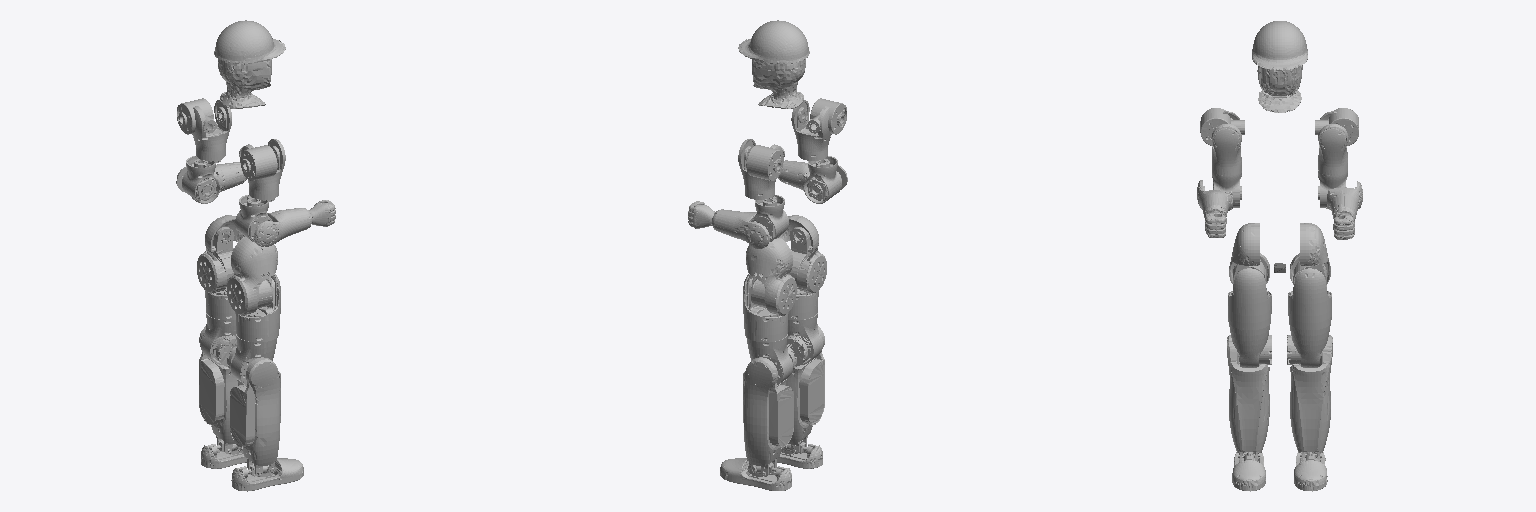
robot.urdf — mini3_27:
<?xml version="1.0"?>
<robot name="mini3_27">

    <link name="base_link">
      <visual>
        <origin xyz="0 0 0" rpy="0 0 0" />
        <geometry>
        <mesh filename="../meshes/base_link_mj.STL" />
        </geometry>
        <material>
          <color rgba="0.74902353 0.74902353 0.74902353 1.00000000" />
        </material>
      </visual>
      <collision>
        <origin xyz="0.0054139 0.0000217 0.0040027" rpy="1.5707963 0 0" />
        <geometry>
          <cylinder radius="0.035" length="0.12" />
        </geometry>
      </collision>
      <inertial>
        <origin xyz="-0.00087 -0.0000002 0.002345" rpy="0 0 0" />
        <mass value="1.0050972" />
        <inertia ixx="0.0015078" ixy="1.01901e-07" ixz="1.681366e-05" iyy="0.0005737024" iyz="-1.01901e-07" izz="0.0014912" />
      </inertial>
    </link>

    <link name="imu_link">
      <visual>
        <origin xyz="0 0 0" rpy="0 0 0" />
        <geometry>
        <mesh filename="../meshes/imu_link.STL" />
        </geometry>
        <material>
          <color rgba="0.49804314 0.49804314 0.49804314 1.00000000" />
        </material>
      </visual>
      <inertial>
        <origin xyz="0.0000067 -0.0001099 0.0066282" rpy="0 0 0" />
        <mass value="0.026293" />
        <inertia ixx="3.834323e-06" ixy="0" ixz="0" iyy="2.440024e-06" iyz="0" izz="5.577197e-06" />
      </inertial>
    </link>

    <link name="left_hip_pitch_link">
      <visual>
        <origin xyz="0 0 0" rpy="0 0 0" />
        <geometry>
        <mesh filename="../meshes/left_hip_pitch_link.STL" />
        </geometry>
        <material>
          <color rgba="0.74902353 0.74902353 0.74902353 1.00000000" />
        </material>
      </visual>
      <inertial>
        <origin xyz="-0.0029284 0.0018352 -0.0518352" rpy="0 0 0" />
        <mass value="0.4980043" />
        <inertia ixx="0.0003398972" ixy="-3.013458e-06" ixz="-1.870422e-05" iyy="0.0003523667" iyz="-1.537902e-05" izz="0.0002316206" />
      </inertial>
    </link>

    <link name="left_hip_roll_link">
      <visual>
        <origin xyz="0 0 0" rpy="0 0 0" />
        <geometry>
        <mesh filename="../meshes/left_hip_roll_link.STL" />
        </geometry>
        <material>
          <color rgba="0.74902353 0.74902353 0.74902353 1.00000000" />
        </material>
      </visual>
      <collision>
        <origin xyz="-0.013 0.00 -0.075" rpy="0 0 0" />
        <geometry>
          <cylinder radius="0.035" length="0.06" />
        </geometry>
      </collision>
      <inertial>
        <origin xyz="-0.0103937 -0.000043 -0.0562074" rpy="0 0 0" />
        <mass value="0.478866" />
        <inertia ixx="0.0003235694" ixy="-1.040751e-07" ixz="-4.79786e-05" iyy="0.0003326239" iyz="6.244504e-07" izz="0.0002055482" />
      </inertial>
    </link>

    <link name="left_hip_yaw_link">
      <visual>
        <origin xyz="0 0 0" rpy="0 0 0" />
        <geometry>
        <mesh filename="../meshes/left_hip_yaw_link.STL" />
        </geometry>
        <material>
          <color rgba="0.74902353 0.74902353 0.74902353 1.00000000" />
        </material>
      </visual>
      <inertial>
        <origin xyz="-0.0044749 -0.002653 -0.0538143" rpy="0 0 0" />
        <mass value="0.4886384" />
        <inertia ixx="0.0003362007" ixy="-6.75937e-06" ixz="-2.838935e-05" iyy="0.0003385924" iyz="-1.93422e-05" izz="0.0002201475" />
      </inertial>
    </link>

    <link name="left_knee_pitch_link">
      <visual>
        <origin xyz="0 0 0" rpy="0 0 0" />
        <geometry>
        <mesh filename="../meshes/left_knee_pitch_link.STL" />
        </geometry>
        <material>
          <color rgba="0.74902353 0.74902353 0.74902353 1.00000000" />
        </material>
      </visual>
      <collision>
        <origin xyz="0.0023641 -0.0155939 -0.1003981" rpy="0 0 0" />
        <geometry>
          <cylinder radius="0.045" length="0.15" />
        </geometry>
      </collision>
      <inertial>
        <origin xyz="0.00524 -0.01321 -0.0967858" rpy="0 0 0" />
        <mass value="0.9651771" />
        <inertia ixx="0.0021286" ixy="4.079245e-07" ixz="1.427736e-05" iyy="0.0020648" iyz="-7.587396e-05" izz="0.0004503487" />
      </inertial>
    </link>

    <link name="left_ankle_pitch_link">
      <visual>
        <origin xyz="0 0 0" rpy="0 0 0" />
        <geometry>
        <mesh filename="../meshes/left_ankle_pitch_link.STL" />
        </geometry>
        <material>
          <color rgba="0.74902353 0.74902353 0.74902353 1.00000000" />
        </material>
      </visual>
      <inertial>
        <origin xyz="-0.0018094 -0.0002054 0" rpy="0 0 0" />
        <mass value="0.0606722" />
        <inertia ixx="2.605063e-06" ixy="0" ixz="0" iyy="7.525737e-06" iyz="0" izz="6.367931e-06" />
      </inertial>
    </link>

    <link name="left_ankle_roll_link">
      <visual>
        <origin xyz="0 0 0" rpy="0 0 0" />
        <geometry>
        <mesh filename="../meshes/left_ankle_roll_link.STL" />
        </geometry>
        <material>
          <color rgba="0.74902353 0.74902353 0.74902353 1.00000000" />
        </material>
      </visual>
      <collision>
        <!-- <origin xyz="0.027 0 -0.018" rpy="0 0 0" /> -->
        <origin xyz="0.0 0.0 0.0" rpy="0 0 0" />
        <geometry>
          <!-- <box size="0.13 0.05 0.02" /> -->
          <mesh filename="../meshes/left_ankle_roll_link.STL" />
        </geometry>
      </collision>
      <inertial>
        <origin xyz="0.0237005 -0.0000052 -0.0148858" rpy="0 0 0" />
        <mass value="0.2257336" />
        <inertia ixx="8.321178e-05" ixy="0" ixz="9.597165e-06" iyy="0.0003770159" iyz="0" izz="0.0004089701" />
      </inertial>
    </link>

    <link name="right_hip_pitch_link">
      <visual>
        <origin xyz="0 0 0" rpy="0 0 0" />
        <geometry>
        <mesh filename="../meshes/right_hip_pitch_link.STL" />
        </geometry>
        <material>
          <color rgba="0.74902353 0.74902353 0.74902353 1.00000000" />
        </material>
      </visual>
      <inertial>
        <origin xyz="-0.0029286 -0.0018352 -0.0519071" rpy="0 0 0" />
        <mass value="0.4980042" />
        <inertia ixx="0.0003405207" ixy="3.013458e-06" ixz="-2.02629e-05" iyy="0.0003528863" iyz="1.527511e-05" izz="0.0002316206" />
      </inertial>
    </link>

    <link name="right_hip_roll_link">
      <visual>
        <origin xyz="0 0 0" rpy="0 0 0" />
        <geometry>
        <mesh filename="../meshes/right_hip_roll_link.STL" />
        </geometry>
        <material>
          <color rgba="0.74902353 0.74902353 0.74902353 1.00000000" />
        </material>
      </visual>
      <collision>
        <origin xyz="-0.013 0.0 -0.075" rpy="0 0 0" />
        <geometry>
          <cylinder radius="0.035" length="0.06" />
        </geometry>
      </collision>
      <inertial>
        <origin xyz="-0.0103937 0.0000429 -0.0562074" rpy="0 0 0" />
        <mass value="0.478866" />
        <inertia ixx="0.0003235694" ixy="1.040751e-07" ixz="-4.79786e-05" iyy="0.0003326239" iyz="-6.244504e-07" izz="0.0002055482" />
      </inertial>
    </link>

    <link name="right_hip_yaw_link">
      <visual>
        <origin xyz="0 0 0" rpy="0 0 0" />
        <geometry>
        <mesh filename="../meshes/right_hip_yaw_link.STL" />
        </geometry>
        <material>
          <color rgba="0.74902353 0.74902353 0.74902353 1.00000000" />
        </material>
      </visual>
      <inertial>
        <origin xyz="-0.004476 0.0027092 -0.0538973" rpy="0 0 0" />
        <mass value="0.4886279" />
        <inertia ixx="0.0003368249" ixy="7.071347e-06" ixz="-2.859736e-05" iyy="0.0003394247" iyz="2.038212e-05" izz="0.0002200437" />
      </inertial>
    </link>

    <link name="right_knee_pitch_link">
      <visual>
        <origin xyz="0 0 0" rpy="0 0 0" />
        <geometry>
        <mesh filename="../meshes/right_knee_pitch_link.STL" />
        </geometry>
        <material>
          <color rgba="0.74902353 0.74902353 0.74902353 1.00000000" />
        </material>
      </visual>
      <collision>
        <origin xyz="0.0025553 0.015072 -0.10242" rpy="0 0 0" />
        <geometry>
          <cylinder radius="0.045" length="0.15" />
        </geometry>
      </collision>
      <inertial>
        <origin xyz="0.00524 0.0131919 -0.096817" rpy="0 0 0" />
        <mass value="0.9651751" />
        <inertia ixx="0.0021255" ixy="-1.223774e-06" ixz="1.284962e-05" iyy="0.0020617" iyz="7.668982e-05" izz="0.0004503487" />
      </inertial>
    </link>

    <link name="right_ankle_pitch_link">
      <visual>
        <origin xyz="0 0 0" rpy="0 0 0" />
        <geometry>
        <mesh filename="../meshes/right_ankle_pitch_link.STL" />
        </geometry>
        <material>
          <color rgba="0.74902353 0.74902353 0.74902353 1.00000000" />
        </material>
      </visual>
      <inertial>
        <origin xyz="-0.0018094 -0.0002054 0" rpy="0 0 0" />
        <mass value="0.0606722" />
        <inertia ixx="2.605063e-06" ixy="0" ixz="0" iyy="7.525737e-06" iyz="0" izz="6.367931e-06" />
      </inertial>
    </link>

    <link name="right_ankle_roll_link">
      <visual>
        <origin xyz="0 0 0" rpy="0 0 0" />
        <geometry>
        <mesh filename="../meshes/right_ankle_roll_link.STL" />
        </geometry>
        <material>
          <color rgba="0.74902353 0.74902353 0.74902353 1.00000000" />
        </material>
      </visual>
      <collision>
        <!-- <origin xyz="0.027 0 -0.018" rpy="0 0 0" /> -->
        <origin xyz="0.0 0.0 0.0" rpy="0 0 0" />
        <geometry>
          <!-- <box size="0.13 0.05 0.02" /> -->
          <mesh filename="../meshes/right_ankle_roll_link.STL" />
        </geometry>
      </collision>
      <inertial>
        <origin xyz="0.0237005 -0.0000052 -0.0148858" rpy="0 0 0" />
        <mass value="0.2257336" />
        <inertia ixx="8.321178e-05" ixy="0" ixz="9.597165e-06" iyy="0.0003770159" iyz="0" izz="0.0004089701" />
      </inertial>
    </link>

    <link name="waist_yaw_link">
      <visual>
        <origin xyz="0 0 0" rpy="0 0 0" />
        <geometry>
        <mesh filename="../meshes/waist_yaw_link_mj.STL" />
        </geometry>
        <material>
          <color rgba="0.74902353 0.74902353 0.74902353 1.00000000" />
        </material>
      </visual>
      <collision>
        <origin xyz="0.0148498 0 0.13" rpy="0 0 0" />
        <geometry>
          <box size="0.11 0.12 0.15" />
        </geometry>
      </collision>
      <inertial>
        <origin xyz="0.0071604 -0.0003445 0.1204239" rpy="0 0 0" />
        <mass value="3.4517348" />
        <inertia ixx="0.0167038" ixy="2.636183e-05" ixz="0.0003811874" iyy="0.0152238" iyz="2.624415e-05" izz="0.00595" />
      </inertial>
    </link>

    <link name="head_link">
      <visual>
        <origin xyz="0 0 0" rpy="0 0 0" />
        <geometry>
        <mesh filename="../meshes/head_link.STL" />
        </geometry>
        <material>
          <color rgba="0.74902353 0.74902353 0.74902353 1.00000000" />
        </material>
      </visual>
      <collision>
        <origin xyz="-0.0006086 -0.000089 0.03" rpy="0 0 0" />
        <geometry>
          <cylinder radius="0.05" length="0.09" />
        </geometry>
      </collision>
      <inertial>
        <origin xyz="0.0019948 0.0000069 0.0196542" rpy="0 0 0" />
        <mass value="0.1674291" />
        <inertia ixx="0.0003061895" ixy="0" ixz="1.767994e-05" iyy="0.0003440268" iyz="0" izz="0.0002040512" />
      </inertial>
    </link>

    <link name="left_shoulder_pitch_link">
      <visual>
        <origin xyz="0 0 0" rpy="0 0 0" />
        <geometry>
        <mesh filename="../meshes/left_shoulder_pitch_link.STL" />
        </geometry>
        <material>
          <color rgba="0.74902353 0.74902353 0.74902353 1.00000000" />
        </material>
      </visual>
      <inertial>
        <origin xyz="0.0018336 0.0301072 -0.0000031" rpy="0 0 0" />
        <mass value="0.3669218" />
        <inertia ixx="0.0001734642" ixy="3.899255e-06" ixz="0" iyy="0.0001478555" iyz="0" izz="0.0001642956" />
      </inertial>
    </link>

    <link name="left_shoulder_roll_link">
      <visual>
        <origin xyz="0 0 0" rpy="0 0 0" />
        <geometry>
        <mesh filename="../meshes/left_shoulder_roll_link.STL" />
        </geometry>
        <material>
          <color rgba="0.74902353 0.74902353 0.74902353 1.00000000" />
        </material>
      </visual>
      <collision>
        <origin xyz="-0.0153644 -0.0026942 -0.06" rpy="0 0 0" />
        <geometry>
          <cylinder radius="0.03" length="0.1" />
        </geometry>
      </collision>
      <inertial>
        <origin xyz="-0.0149271 -0.0008274 -0.0500124" rpy="0 0 0" />
        <mass value="0.3853307" />
        <inertia ixx="0.0002561649" ixy="-4.204593e-07" ixz="-4.635564e-05" iyy="0.0002703554" iyz="-4.730168e-06" izz="0.0001733344" />
      </inertial>
    </link>

    <link name="left_shoulder_yaw_link">
      <visual>
        <origin xyz="0 0 0" rpy="0 0 0" />
        <geometry>
        <mesh filename="../meshes/left_shoulder_yaw_link.STL" />
        </geometry>
        <material>
          <color rgba="0.74902353 0.74902353 0.74902353 1.00000000" />
        </material>
      </visual>
      <inertial>
        <origin xyz="-0.0000206 -0.000693 -0.0405367" rpy="0 0 0" />
        <mass value="0.3939033" />
        <inertia ixx="0.0002169258" ixy="-3.149939e-07" ixz="3.149939e-07" iyy="0.0002319405" iyz="-4.934904e-06" izz="0.0001630618" />
      </inertial>
    </link>

    <link name="left_elbow_pitch_link">
      <visual>
        <origin xyz="0 0 0" rpy="0 0 0" />
        <geometry>
        <mesh filename="../meshes/left_elbow_pitch_link.STL" />
        </geometry>
        <material>
          <color rgba="0.74902353 0.74902353 0.74902353 1.00000000" />
        </material>
      </visual>
      <collision>
        <origin xyz="0.107 -0.018 0.0085" rpy="0 0 0" />
        <geometry>
          <sphere radius="0.0116" />
        </geometry>
      </collision>
      <inertial>
        <origin xyz="0.0395905 -0.005665 0.0018103" rpy="0 0 0" />
        <mass value="0.0894731" />
        <inertia ixx="3.09954e-05" ixy="2.188655e-05" ixz="-5.186986e-06" iyy="0.0001039927" iyz="1.138607e-06" izz="0.0001093062" />
      </inertial>
    </link>

    <link name="right_shoulder_pitch_link">
      <visual>
        <origin xyz="0 0 0" rpy="0 0 0" />
        <geometry>
        <mesh filename="../meshes/right_shoulder_pitch_link.STL" />
        </geometry>
        <material>
          <color rgba="0.74902353 0.74902353 0.74902353 1.00000000" />
        </material>
      </visual>
      <inertial>
        <origin xyz="0.0018237 -0.0302369 0.0000067" rpy="0 0 0" />
        <mass value="0.3669218" />
        <inertia ixx="0.0001736749" ixy="-5.374649e-06" ixz="0" iyy="0.0001478555" iyz="0" izz="0.0001645064" />
      </inertial>
    </link>

    <link name="right_shoulder_roll_link">
      <visual>
        <origin xyz="0 0 0" rpy="0 0 0" />
        <geometry>
        <mesh filename="../meshes/right_shoulder_roll_link.STL" />
        </geometry>
        <material>
          <color rgba="0.74902353 0.74902353 0.74902353 1.00000000" />
        </material>
      </visual>
      <collision>
        <origin xyz="-0.01513 0.0015086 -0.06" rpy="0 0 0" />
        <geometry>
          <cylinder radius="0.03" length="0.1" />
        </geometry>
      </collision>
      <inertial>
        <origin xyz="-0.0149019 0.000812 -0.0499282" rpy="0 0 0" />
        <mass value="0.3856285" />
        <inertia ixx="0.0002572058" ixy="4.204427e-07" ixz="-4.666914e-05" iyy="0.0002715009" iyz="4.729981e-06" izz="0.0001735377" />
      </inertial>
    </link>

    <link name="right_shoulder_yaw_link">
      <visual>
        <origin xyz="0 0 0" rpy="0 0 0" />
        <geometry>
        <mesh filename="../meshes/right_shoulder_yaw_link.STL" />
        </geometry>
        <material>
          <color rgba="0.74902353 0.74902353 0.74902353 1.00000000" />
        </material>
      </visual>
      <inertial>
        <origin xyz="-0.0000206 0.000697 -0.0404716" rpy="0 0 0" />
        <mass value="0.3942011" />
        <inertia ixx="0.0002176525" ixy="3.14982e-07" ixz="2.09988e-07" iyy="0.0002325617" iyz="4.934718e-06" izz="0.0001630557" />
      </inertial>
    </link>

    <link name="right_elbow_pitch_link">
      <visual>
        <origin xyz="0 0 0" rpy="0 0 0" />
        <geometry>
        <mesh filename="../meshes/right_elbow_pitch_link.STL" />
        </geometry>
        <material>
          <color rgba="0.74902353 0.74902353 0.74902353 1.00000000" />
        </material>
      </visual>
      <collision>
        <origin xyz="0.107 0.018 0.0085" rpy="0 0 0" />
        <geometry>
          <sphere radius="0.0116" />
        </geometry>
      </collision>
      <inertial>
        <origin xyz="0.0395959 0.0056647 0.0018132" rpy="0 0 0" />
        <mass value="0.0894753" />
        <inertia ixx="3.09952e-05" ixy="-2.188641e-05" ixz="-5.186952e-06" iyy="0.0001039921" iyz="-1.138599e-06" izz="0.0001093055" />
      </inertial>
    </link>

  <joint name="imu_joint" type="fixed">
    <parent link="base_link" />
    <child link="imu_link" />
    <origin xyz="0 0 -0.044" rpy="0 0 0" />
  </joint>

  <joint name="left_hip_pitch_joint" type="revolute">
    <parent link="base_link" />
    <child link="left_hip_pitch_link" />
    <origin xyz="0 0.05775 0" rpy="0 0 0" />
    <axis xyz="0 1 0" />
    <limit lower="-1.8326" upper="1.8326" effort="27" velocity="10" />
  </joint>

  <joint name="left_hip_roll_joint" type="revolute">
    <parent link="left_hip_pitch_link" />
    <child link="left_hip_roll_link" />
    <origin xyz="0.018 -0.001 -0.064" rpy="0 0 0" />
    <axis xyz="1 0 0" />
    <limit lower="-0.8727" upper="1.3963" effort="27" velocity="10" />
  </joint>

  <joint name="left_hip_yaw_joint" type="revolute">
    <parent link="left_hip_roll_link" />
    <child link="left_hip_yaw_link" />
    <origin xyz="-0.0173 0 -0.08905" rpy="0 0 0" />
    <axis xyz="0 0 1" />
    <limit lower="-1.9199" upper="1.9199" effort="27" velocity="10" />
  </joint>

  <joint name="left_knee_pitch_joint" type="revolute">
    <parent link="left_hip_yaw_link" />
    <child link="left_knee_pitch_link" />
    <origin xyz="-0.0079999 0.01605 -0.068" rpy="0 0 0" />
    <axis xyz="0 1 0" />
    <limit lower="-0.3491" upper="1.9199" effort="27" velocity="10" />
  </joint>

  <joint name="left_ankle_pitch_joint" type="revolute">
    <parent link="left_knee_pitch_link" />
    <child link="left_ankle_pitch_link" />
    <origin xyz="0.0040003 -0.015 -0.214" rpy="0 0 0" />
    <axis xyz="0 1 0" />
    <limit lower="-0.7" upper="0.7" effort="25" velocity="45" />
  </joint>

  <joint name="left_ankle_roll_joint" type="revolute">
    <parent link="left_ankle_pitch_link" />
    <child link="left_ankle_roll_link" />
    <origin xyz="0 0 0" rpy="0 0 0" />
    <axis xyz="1 0 0" />
    <limit lower="-0.518" upper="0.518" effort="25" velocity="45" />
  </joint>

  <joint name="right_hip_pitch_joint" type="revolute">
    <parent link="base_link" />
    <child link="right_hip_pitch_link" />
    <origin xyz="0 -0.05775 0" rpy="0 0 0" />
    <axis xyz="0 1 0" />
    <limit lower="-1.8326" upper="1.8326" effort="27" velocity="10" />
  </joint>

  <joint name="right_hip_roll_joint" type="revolute">
    <parent link="right_hip_pitch_link" />
    <child link="right_hip_roll_link" />
    <origin xyz="0.018 0.001 -0.064" rpy="0 0 0" />
    <axis xyz="1 0 0" />
    <limit lower="-1.3963" upper="0.8727" effort="27" velocity="10" />
  </joint>

  <joint name="right_hip_yaw_joint" type="revolute">
    <parent link="right_hip_roll_link" />
    <child link="right_hip_yaw_link" />
    <origin xyz="-0.0173 0 -0.08905" rpy="0 0 0" />
    <axis xyz="0 0 1" />
    <limit lower="-1.9199" upper="1.9199" effort="27" velocity="10" />
  </joint>

  <joint name="right_knee_pitch_joint" type="revolute">
    <parent link="right_hip_yaw_link" />
    <child link="right_knee_pitch_link" />
    <origin xyz="-0.0079999 -0.01605 -0.068" rpy="0 0 0" />
    <axis xyz="0 1 0" />
    <limit lower="-0.3491" upper="1.9199" effort="27" velocity="10" />
  </joint>

  <joint name="right_ankle_pitch_joint" type="revolute">
    <parent link="right_knee_pitch_link" />
    <child link="right_ankle_pitch_link" />
    <origin xyz="0.0040003 0.015 -0.214" rpy="0 0 0" />
    <axis xyz="0 1 0" />
    <limit lower="-0.7" upper="0.7" effort="25" velocity="45" />
  </joint>

  <joint name="right_ankle_roll_joint" type="revolute">
    <parent link="right_ankle_pitch_link" />
    <child link="right_ankle_roll_link" />
    <origin xyz="0 0 0" rpy="0 0 0" />
    <axis xyz="1 0 0" />
    <limit lower="-0.518" upper="0.518" effort="25" velocity="45" />
  </joint>

  <joint name="waist_yaw_joint" type="revolute">
    <parent link="base_link" />
    <child link="waist_yaw_link" />
    <origin xyz="-0.022 0 0.0385" rpy="0 0 0" />
    <axis xyz="0 0 1" />
    <limit lower="-2.618" upper="2.618" effort="27" velocity="10" />
  </joint>

  <joint name="head_joint" type="fixed">
    <parent link="waist_yaw_link" />
    <child link="head_link" />
    <origin xyz="0.016552 0 0.27947" rpy="0 0 0" />
  </joint>

  <joint name="left_shoulder_pitch_joint" type="revolute">
    <parent link="waist_yaw_link" />
    <child link="left_shoulder_pitch_link" />
    <origin xyz="-0.008007 0.06505 0.19505" rpy="0 0 0" />
    <axis xyz="0 1 0" />
    <limit lower="-3.4907" upper="1.0472" effort="12.5" velocity="45" />
  </joint>

  <joint name="left_shoulder_roll_joint" type="revolute">
    <parent link="left_shoulder_pitch_link" />
    <child link="left_shoulder_roll_link" />
    <origin xyz="0.020507 0.035007 0" rpy="0 0 0" />
    <axis xyz="1 0 0" />
    <limit lower="-0.1745" upper="3.1416" effort="12.5" velocity="45" />
  </joint>

  <joint name="left_shoulder_yaw_joint" type="revolute">
    <parent link="left_shoulder_roll_link" />
    <child link="left_shoulder_yaw_link" />
    <origin xyz="-0.020507 0 -0.086048" rpy="0 0 0" />
    <axis xyz="0 0 1" />
    <limit lower="-1.5708" upper="1.5708" effort="12.5" velocity="45" />
  </joint>

  <joint name="left_elbow_pitch_joint" type="revolute">
    <parent link="left_shoulder_yaw_link" />
    <child link="left_elbow_pitch_link" />
    <origin xyz="0.0000128 0.018503 -0.051005" rpy="0 0 0" />
    <axis xyz="0 1 0" />
    <limit lower="-0.576" upper="3.8397" effort="12.5" velocity="45" />
  </joint>

  <joint name="right_shoulder_pitch_joint" type="revolute">
    <parent link="waist_yaw_link" />
    <child link="right_shoulder_pitch_link" />
    <origin xyz="-0.0079971 -0.06505 0.19504" rpy="0 0 0" />
    <axis xyz="0 1 0" />
    <limit lower="-3.4907" upper="1.0472" effort="12.5" velocity="45" />
  </joint>

  <joint name="right_shoulder_roll_joint" type="revolute">
    <parent link="right_shoulder_pitch_link" />
    <child link="right_shoulder_roll_link" />
    <origin xyz="0.020497 -0.034993 0" rpy="0 0 0" />
    <axis xyz="1 0 0" />
    <limit lower="-3.1416" upper="0.1745" effort="12.5" velocity="45" />
  </joint>

  <joint name="right_shoulder_yaw_joint" type="revolute">
    <parent link="right_shoulder_roll_link" />
    <child link="right_shoulder_yaw_link" />
    <origin xyz="-0.020507 0 -0.086048" rpy="0 0 0" />
    <axis xyz="0 0 1" />
    <limit lower="-1.5708" upper="1.5708" effort="12.5" velocity="45" />
  </joint>

  <joint name="right_elbow_pitch_joint" type="revolute">
    <parent link="right_shoulder_yaw_link" />
    <child link="right_elbow_pitch_link" />
    <origin xyz="0 -0.018497 -0.051007" rpy="0 0 0" />
    <axis xyz="0 1 0" />
    <limit lower="-0.576" upper="3.8397" effort="12.5" velocity="45" />
  </joint>

</robot>

--- Render facts (derived) ---
The picture shows the robot from 3 angles, left to right: view 1: azimuth 30°, elevation 25°; view 2: azimuth 150°, elevation 25°; view 3: azimuth 270°, elevation 25°; orthographic projection.
Model mini3_27 with 24 links and 23 joints (21 revolute, 2 fixed), rooted at base_link, posed every joint at zero.
Visible links, largest first — view 1: right_knee_pitch_link, head_link, right_hip_pitch_link, left_knee_pitch_link, left_hip_pitch_link, right_elbow_pitch_link, right_hip_roll_link, left_shoulder_roll_link, right_ankle_roll_link, left_shoulder_yaw_link, left_hip_yaw_link, right_hip_yaw_link (+7 smaller); view 2: left_knee_pitch_link, head_link, left_hip_pitch_link, right_knee_pitch_link, right_hip_pitch_link, left_elbow_pitch_link, left_hip_roll_link, right_shoulder_roll_link, left_ankle_roll_link, right_shoulder_yaw_link, right_hip_yaw_link, left_hip_yaw_link (+7 smaller); view 3: head_link, left_knee_pitch_link, right_knee_pitch_link, left_hip_roll_link, right_hip_roll_link, right_shoulder_roll_link, left_shoulder_roll_link, left_hip_pitch_link, right_hip_pitch_link, left_elbow_pitch_link, left_hip_yaw_link, right_hip_yaw_link (+7 smaller).
Link boxes in pixels (left/top/right/bottom): right_knee_pitch_link: left=230, top=357, right=280, bottom=476; head_link: left=214, top=20, right=285, bottom=108; right_hip_pitch_link: left=227, top=237, right=277, bottom=315; left_knee_pitch_link: left=199, top=326, right=242, bottom=453; left_hip_pitch_link: left=197, top=215, right=244, bottom=293; right_elbow_pitch_link: left=254, top=200, right=335, bottom=246; right_hip_roll_link: left=235, top=274, right=280, bottom=341; left_shoulder_roll_link: left=192, top=100, right=231, bottom=162; right_ankle_roll_link: left=231, top=458, right=303, bottom=491; left_shoulder_yaw_link: left=182, top=156, right=220, bottom=203; left_hip_yaw_link: left=201, top=313, right=236, bottom=366; right_hip_yaw_link: left=227, top=334, right=277, bottom=384; left_knee_pitch_link: left=743, top=357, right=793, bottom=476; head_link: left=738, top=20, right=809, bottom=108; left_hip_pitch_link: left=746, top=238, right=796, bottom=315; right_knee_pitch_link: left=781, top=326, right=824, bottom=453; right_hip_pitch_link: left=779, top=215, right=826, bottom=293; left_elbow_pitch_link: left=688, top=201, right=782, bottom=248; left_hip_roll_link: left=743, top=274, right=788, bottom=341; right_shoulder_roll_link: left=791, top=100, right=831, bottom=160; left_ankle_roll_link: left=720, top=458, right=791, bottom=490; right_shoulder_yaw_link: left=804, top=156, right=841, bottom=203; right_hip_yaw_link: left=787, top=313, right=822, bottom=366; left_hip_yaw_link: left=746, top=334, right=796, bottom=384; head_link: left=1252, top=21, right=1307, bottom=112; left_knee_pitch_link: left=1290, top=335, right=1332, bottom=461; right_knee_pitch_link: left=1227, top=335, right=1269, bottom=461; left_hip_roll_link: left=1288, top=268, right=1331, bottom=329; right_hip_roll_link: left=1228, top=268, right=1271, bottom=329; right_shoulder_roll_link: left=1211, top=111, right=1241, bottom=176; left_shoulder_roll_link: left=1318, top=111, right=1348, bottom=176; left_hip_pitch_link: left=1290, top=223, right=1330, bottom=284; right_hip_pitch_link: left=1229, top=223, right=1269, bottom=283; left_elbow_pitch_link: left=1326, top=181, right=1362, bottom=239; left_hip_yaw_link: left=1287, top=324, right=1330, bottom=367; right_hip_yaw_link: left=1229, top=324, right=1271, bottom=367.
Size in the robot's own frame: 0.1909 by 0.3129 by 0.93 metres.
Meshes: 24 distinct files referenced, 22 mesh visuals loaded (22 binary STL); not drawn: 2 (reference not matched to a file when rendering).
